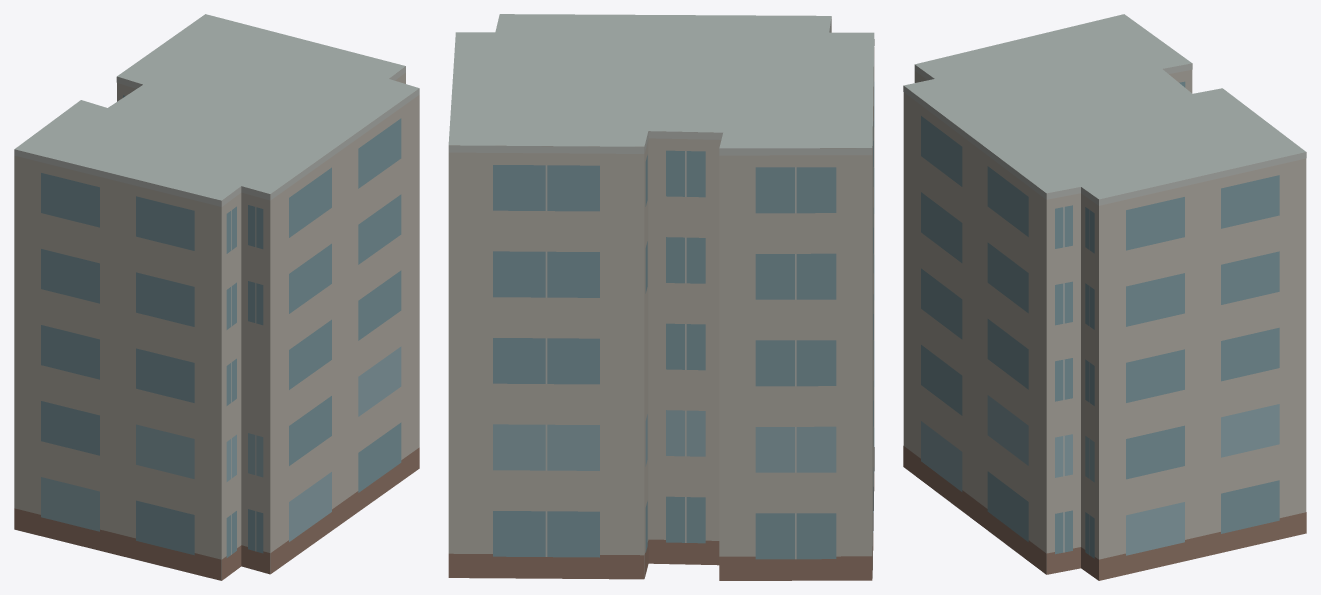
The model's file is survey-upis-32924152.glb.
3 renders of one model, left to right at view 1: azimuth 30°, elevation 25°; view 2: azimuth 150°, elevation 25°; view 3: azimuth 270°, elevation 25°, orthographic. The views are drawn at different scales.
Visible parts, largest first — view 1: survey-upis-32924152.tmp; view 2: survey-upis-32924152.tmp; view 3: survey-upis-32924152.tmp.
Part boxes in pixels (bbox=[...]): survey-upis-32924152.tmp: bbox=[14, 14, 419, 580]; survey-upis-32924152.tmp: bbox=[448, 14, 874, 580]; survey-upis-32924152.tmp: bbox=[903, 14, 1306, 580].
Bounding box in the file's own units: 15.18 × 14.55 × 13.94.
